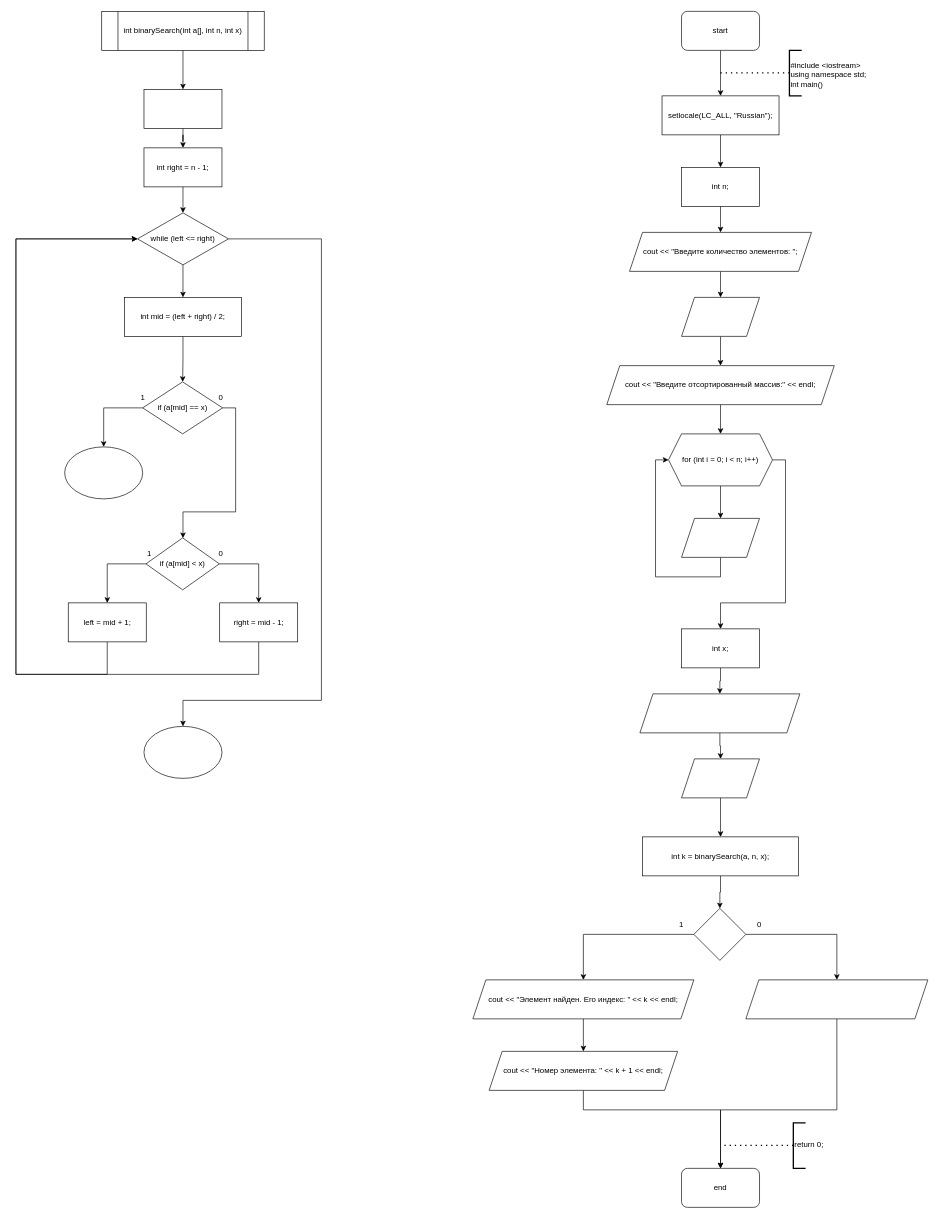
This 939x1219 diagram has some shape labels left out. Here are the shapes that lost their labels. From the top down, the centre of each, then its label:
[182,108]: int left = 0;
[720,316]: cin >> n;
[103,472]: return mid;
[720,537]: cin >> a[i];
[719,713]: cout << "Введите число для поиска: ";
[182,752]: return -1;
[720,778]: cin >> x;
[719,934]: if (k != -1)
[836,999]: cout << "Элемент не найден" << endl;
